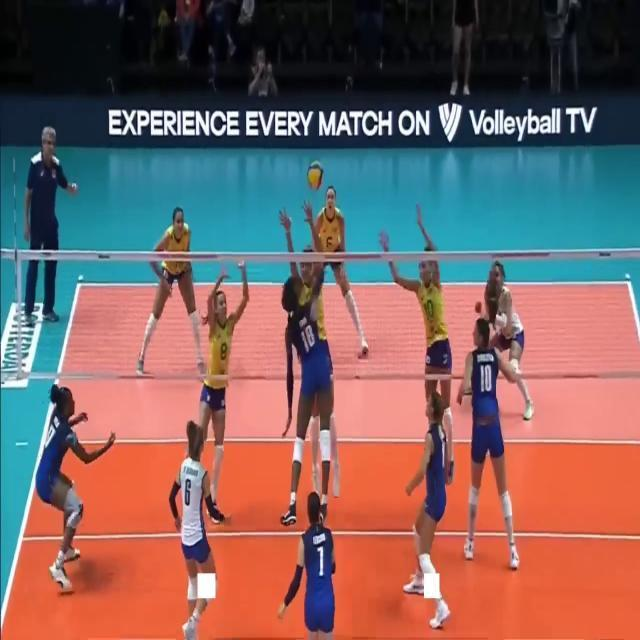volleyball: (306, 161, 324, 189)
